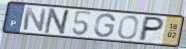5: (71, 10, 94, 38)
G: (92, 13, 117, 39)
N: (42, 7, 73, 36), (21, 7, 48, 33)
O: (116, 15, 140, 41)
P: (137, 16, 167, 42)
